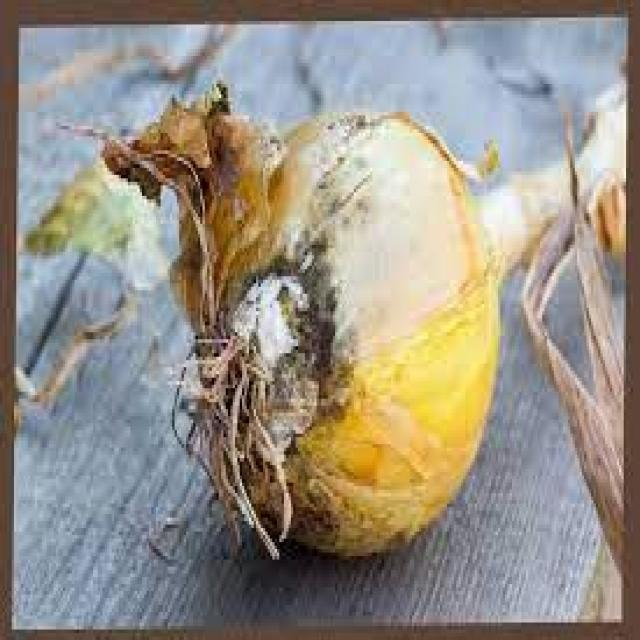Onion: (21, 24, 627, 580)
